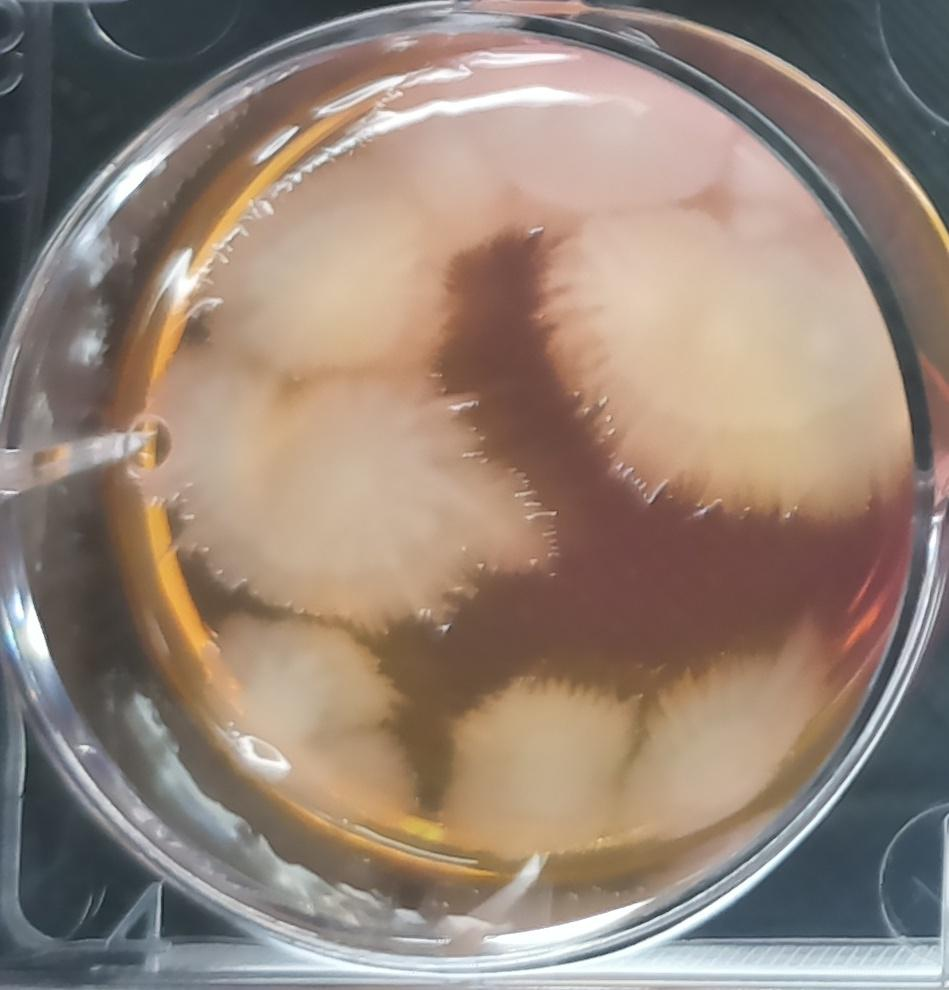vproteolyticus: (198, 35, 719, 366), (547, 162, 910, 542), (132, 332, 568, 640), (400, 635, 656, 890), (195, 593, 431, 857), (615, 603, 843, 859)
